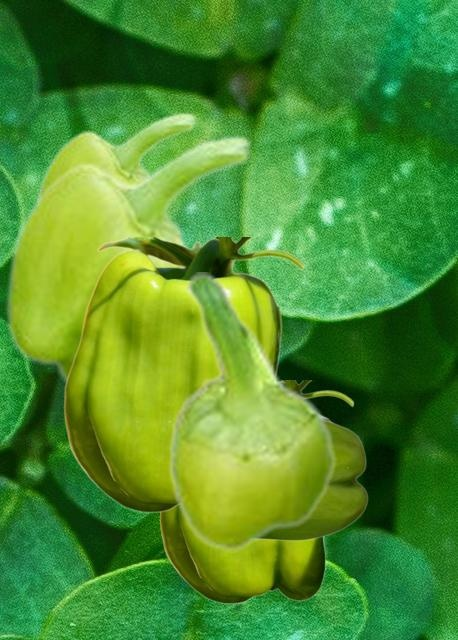bell_pepper: (63, 237, 303, 512), (4, 133, 253, 383), (167, 272, 336, 551), (159, 380, 353, 603), (34, 111, 196, 199), (263, 416, 367, 540)
